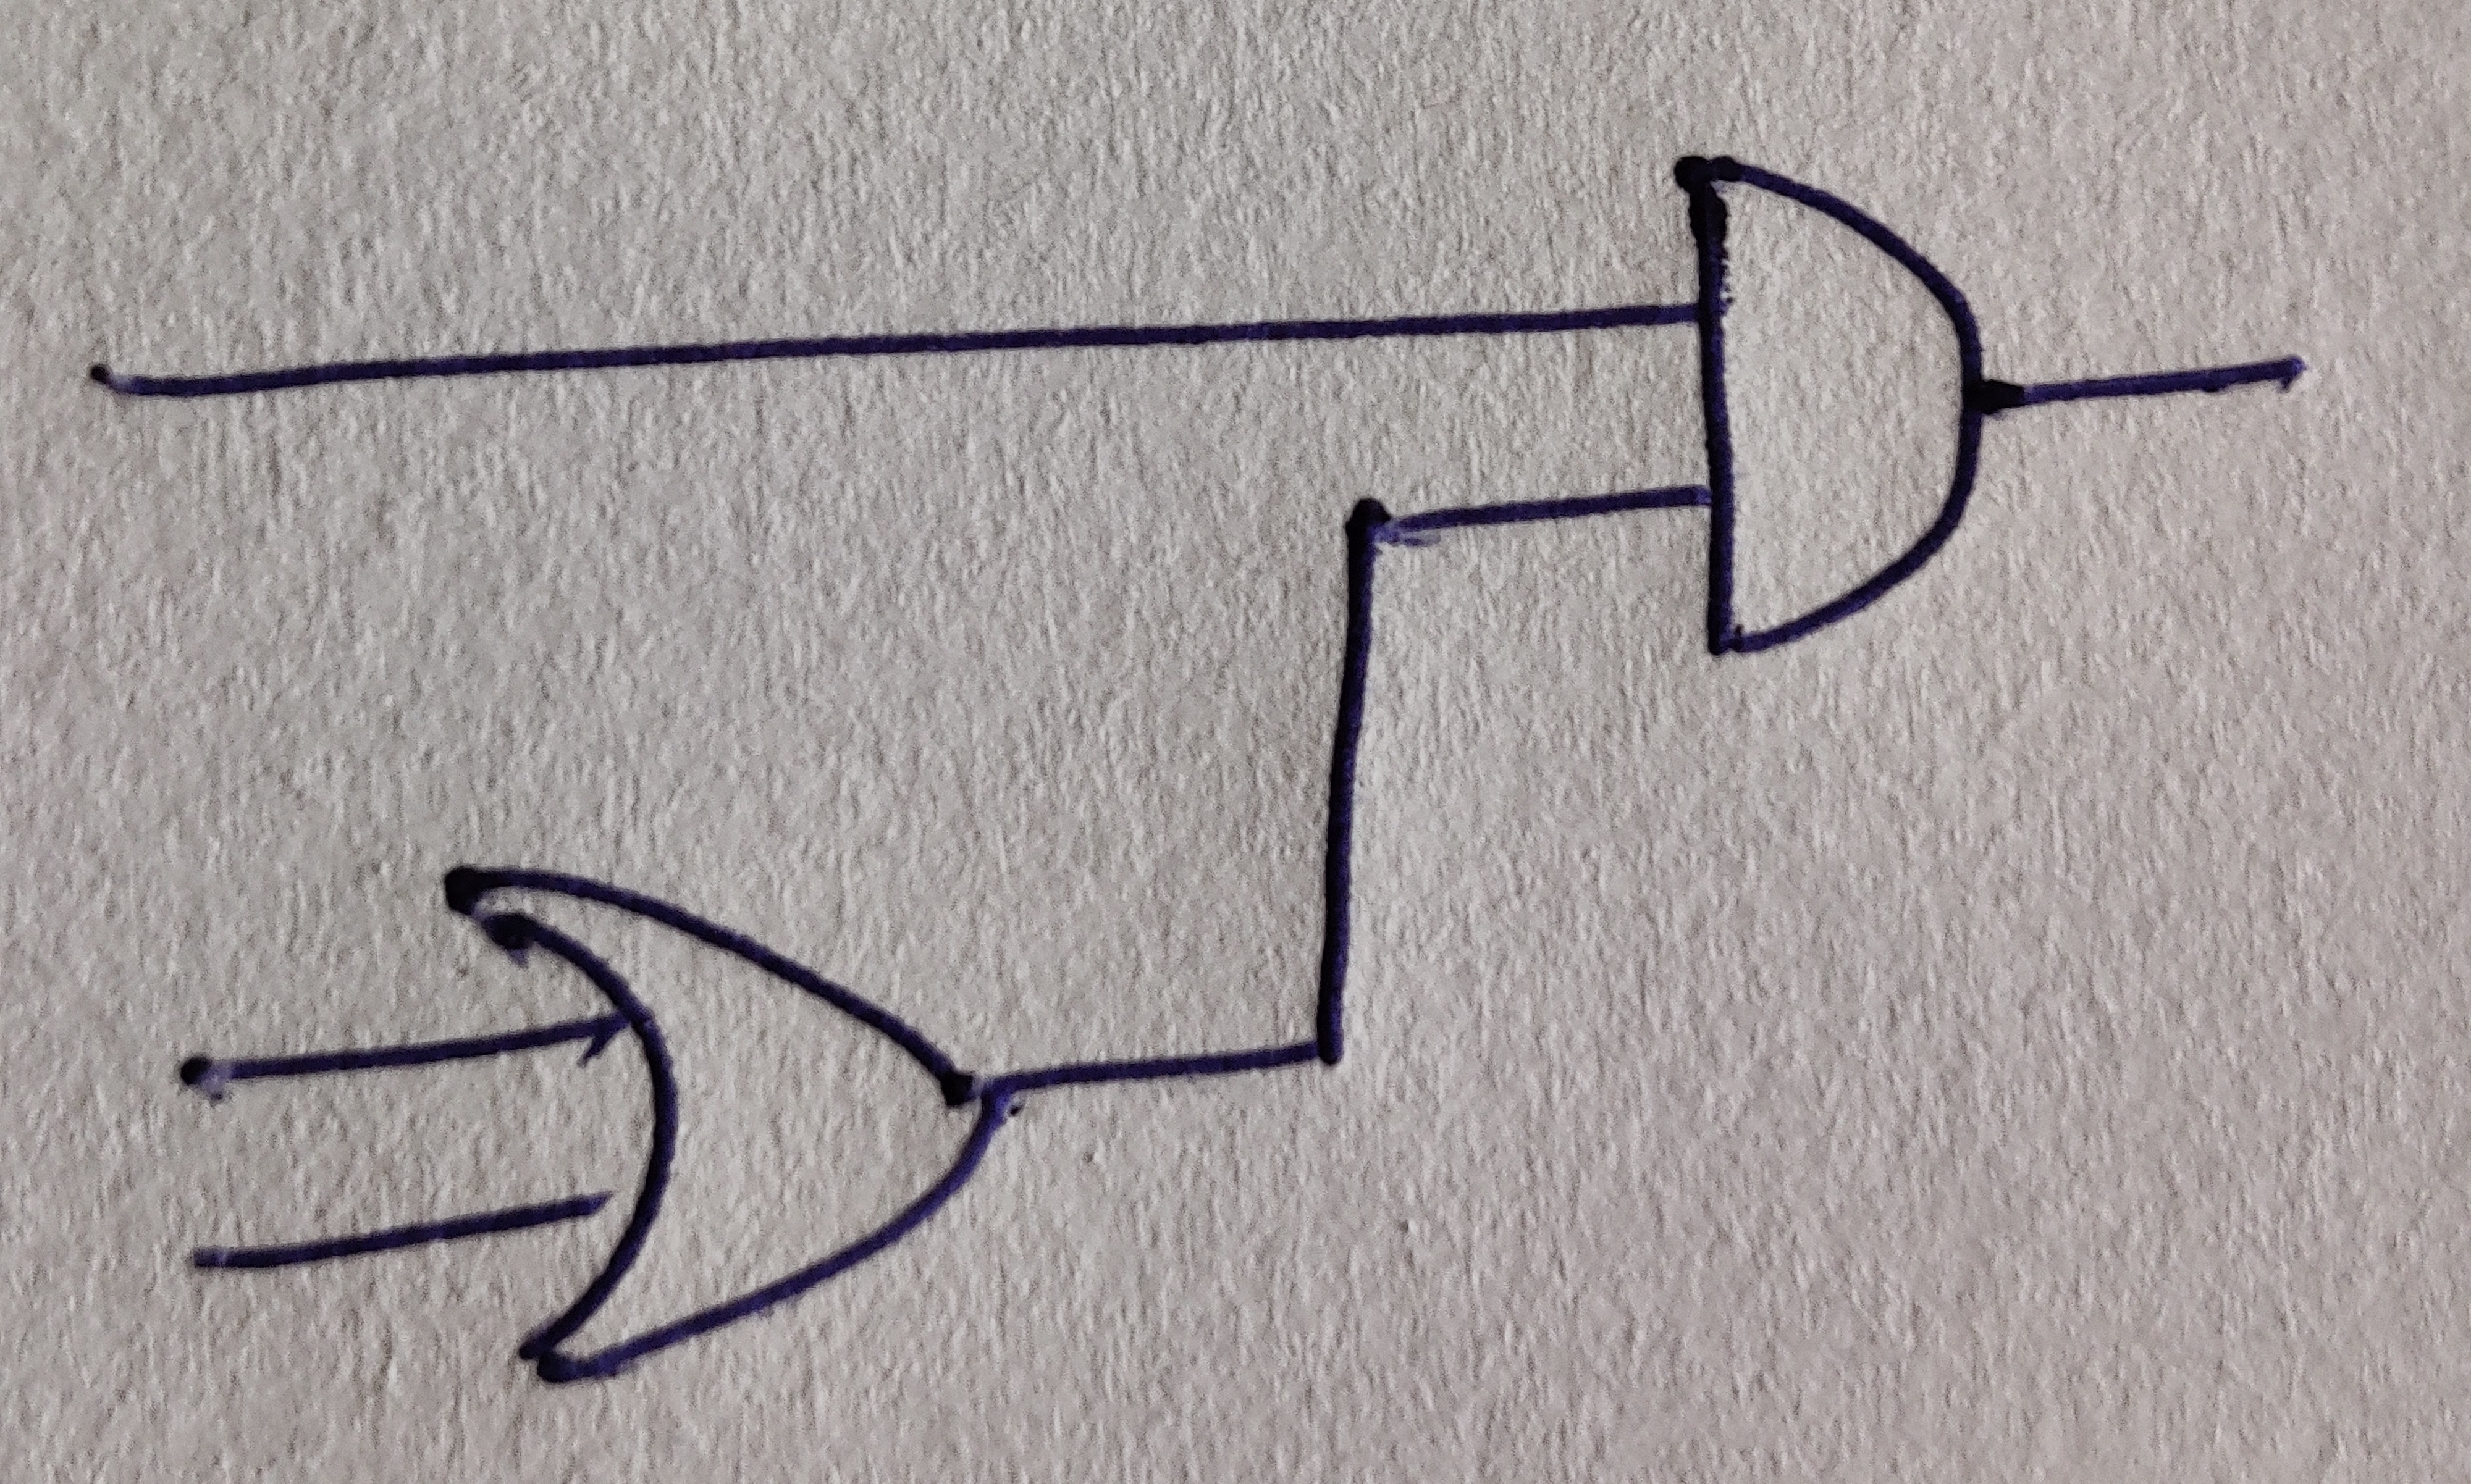and: (1673, 157, 1986, 655)
or: (443, 863, 1006, 1385)
